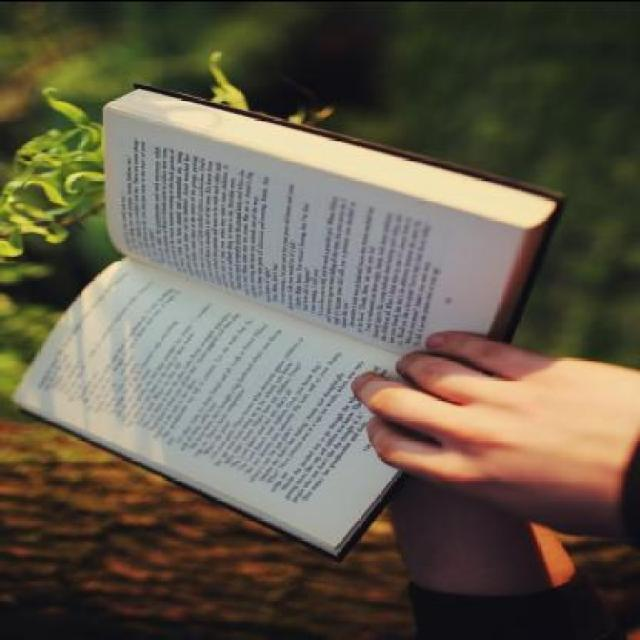book: (14, 65, 562, 572)
